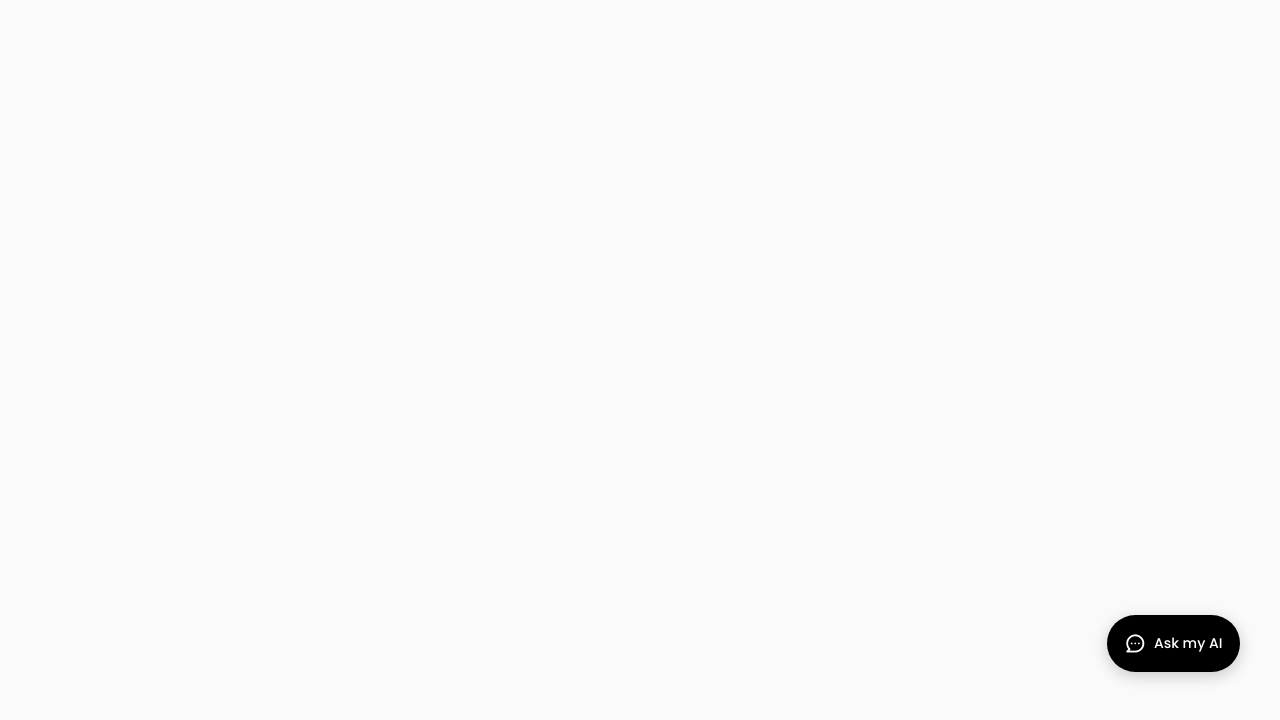
Scenario: ChatWidget › Enter sends, Shift+Enter does not; the input is cleared and the history goes with the next question
Later steps or results of the test are not shown.
Click the button with aria-label "open chat".
click(1173, 644)  # box [1107,615,1240,672]
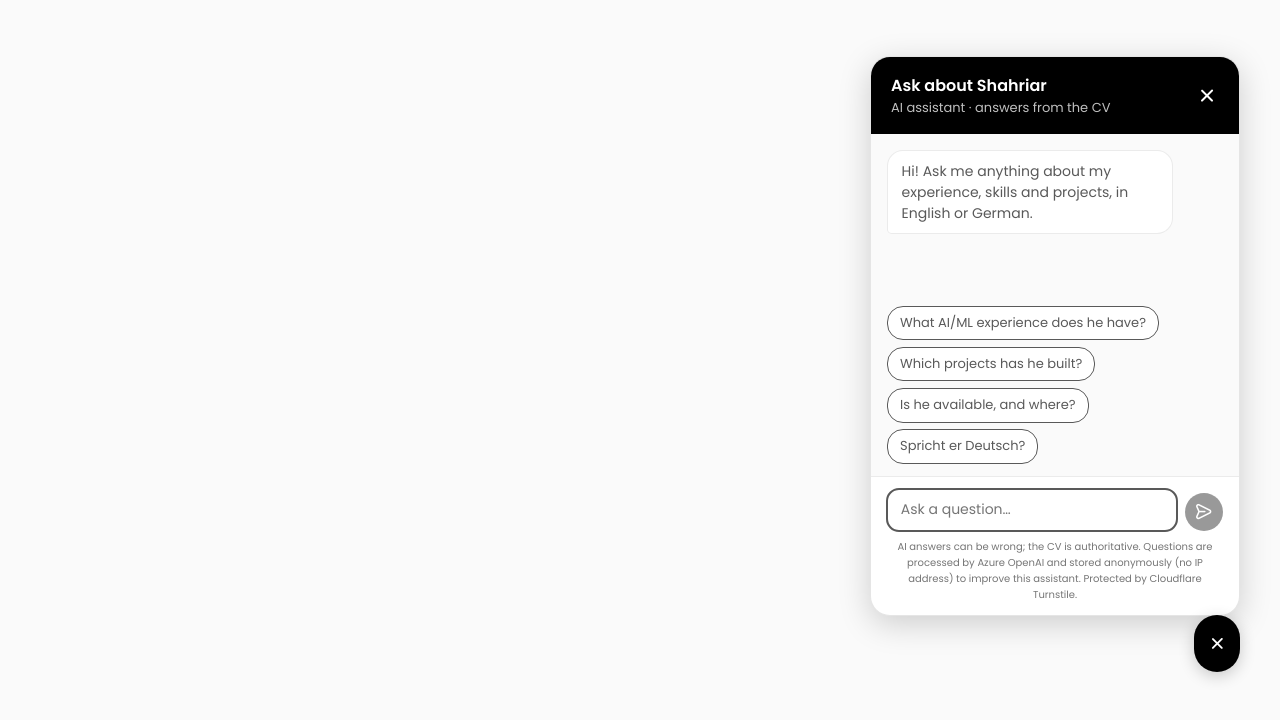
Type "  Does he know Python?  " into the text box named "Your question".
click(1032, 510); type("  Does he know Python?  ")  # box [887,489,1177,531]
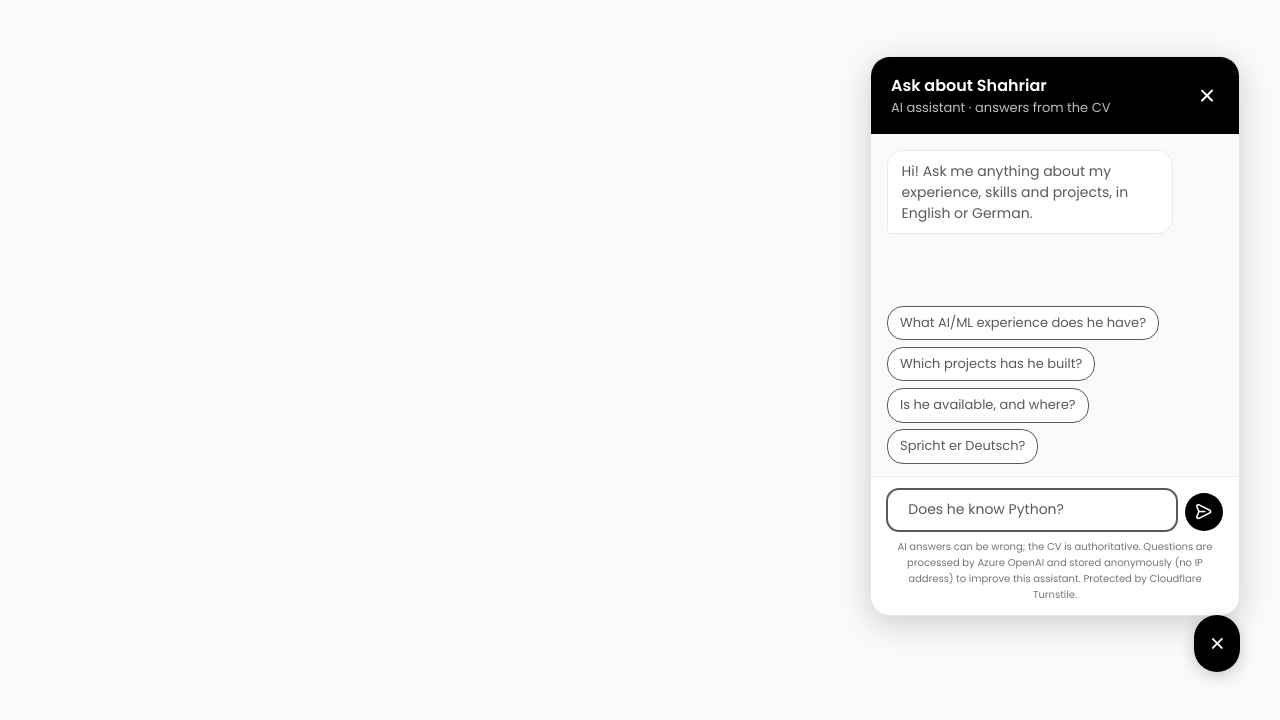
Press Enter in the text box named "Your question", box [887,489,1177,531]
Press Enter in the text box named "Your question", box [887,489,1177,531]
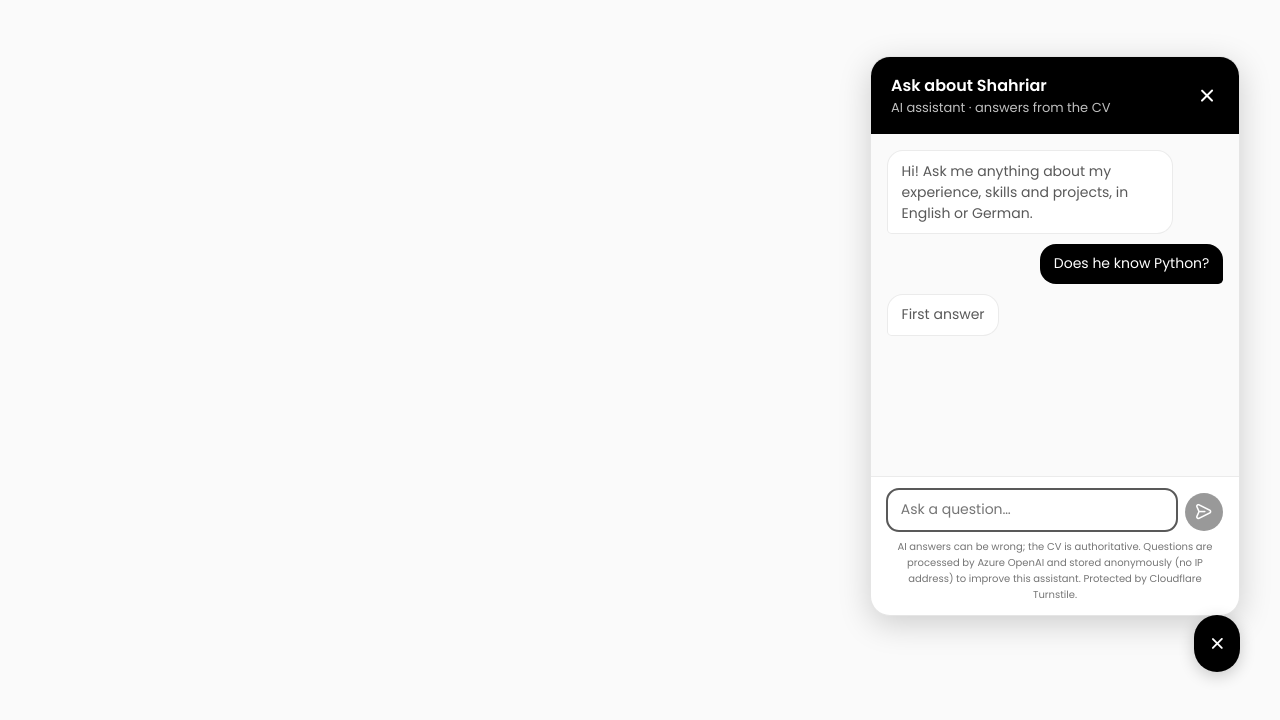
Now the text box named "Your question" is empty, box [887,489,1177,531]
Now the text "First answer" is shown, box [887,294,999,336]
